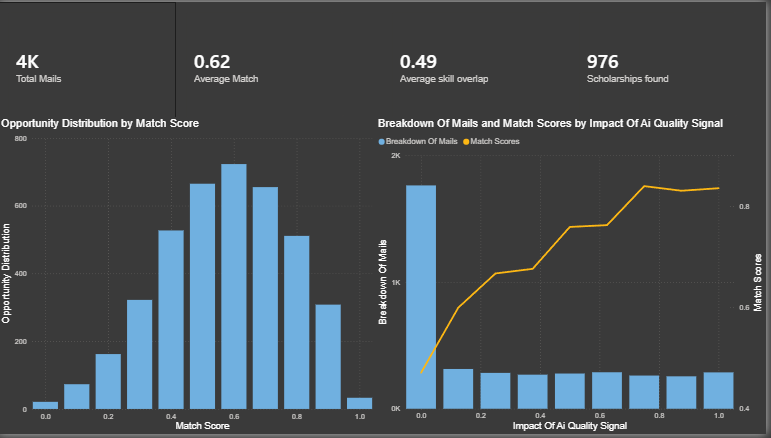

The dashboard page shown, as its layout file describes it:
{"tool":"powerbi","page":{"name":"Page 1","canvas":[1280,720],"ordinal":0},"visuals":[{"type":"cardVisual","fields":{"Data":["CountNonNull(match_scores.Row_Index)"]},"box":[0,0,296.8,210.3],"z":0},{"type":"cardVisual","fields":{"Data":["Avg(match_scores.match_score)"]},"box":[296.8,0,296.8,210.3],"z":1000},{"type":"cardVisual","fields":{"Data":["Avg(match_scores.skills_overlap_pct)"]},"box":[640.8,0,296.8,210.3],"z":2000},{"type":"cardVisual","fields":{"Data":["Sum(match_scores.is_scholarship)"]},"box":[952.3,0,296.8,210.3],"z":3000},{"type":"clusteredColumnChart","fields":{"Category":["match_scores.match_score (bins)"],"Y":["CountNonNull(match_scores.Row_Index)"]},"box":[0,191.4,628.6,528.6],"z":4000},{"type":"lineClusteredColumnComboChart","fields":{"Category":["match_scores.quality_signal"],"Y":["CountNonNull(match_scores.Row_Index)"],"Y2":["Avg(match_scores.match_score)"]},"box":[628.6,191.4,651.4,528.6],"z":5000}]}

Visuals, with their boxes in screenshot pixels (x1, y1, x2, y2), scaled from the page's 1280x720 canvas onto the 771x438 screenshot:
cardVisual - CountNonNull(match_scores.Row_Index): l=0, t=0, r=179, b=128
cardVisual - Avg(match_scores.match_score): l=179, t=0, r=358, b=128
cardVisual - Avg(match_scores.skills_overlap_pct): l=386, t=0, r=565, b=128
cardVisual - Sum(match_scores.is_scholarship): l=574, t=0, r=752, b=128
clusteredColumnChart - match_scores.match_score (bins) x CountNonNull(match_scores.Row_Index): l=0, t=116, r=379, b=437
lineClusteredColumnComboChart - match_scores.quality_signal x CountNonNull(match_scores.Row_Index): l=379, t=116, r=770, b=437
